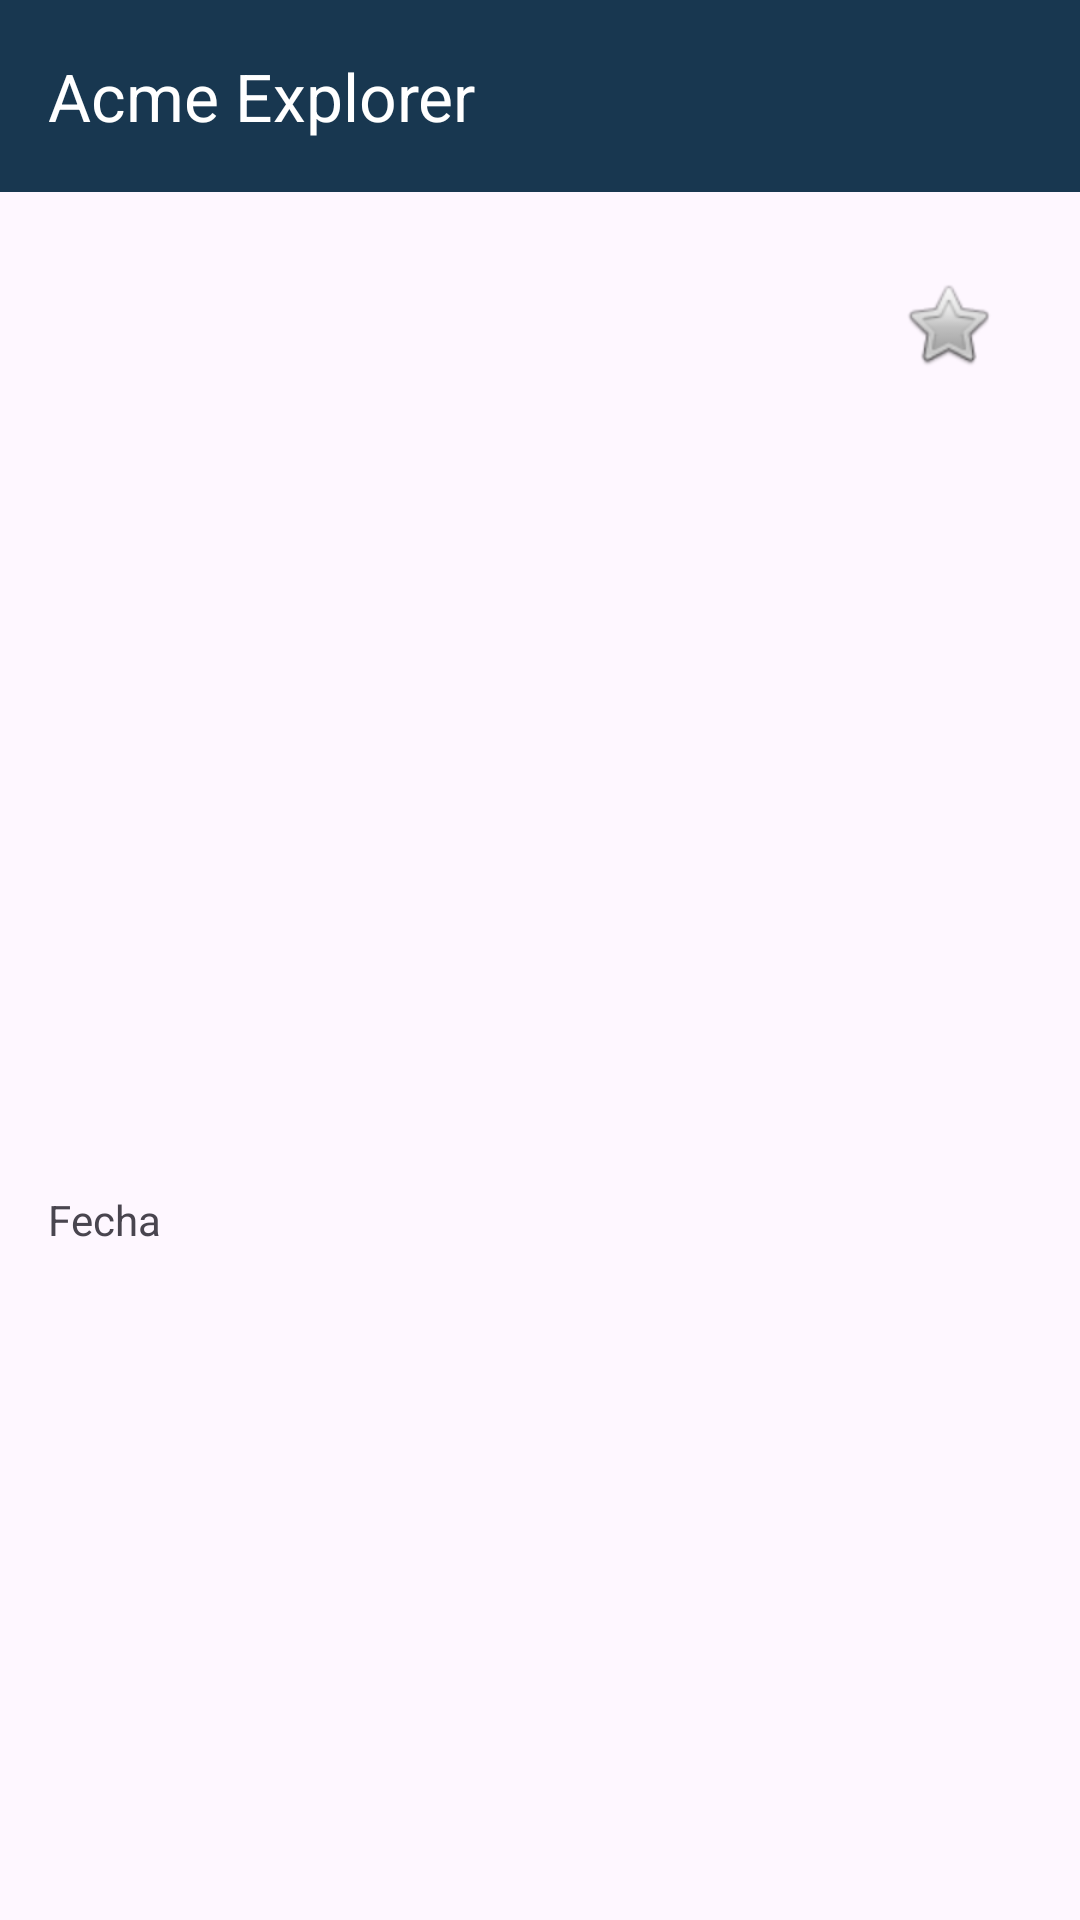

Where icons sit on this 1080×1920 app screen, as BBox(x1, y1, x2, y2):
Agregar a favoritos: BBox(909, 286, 989, 364)
